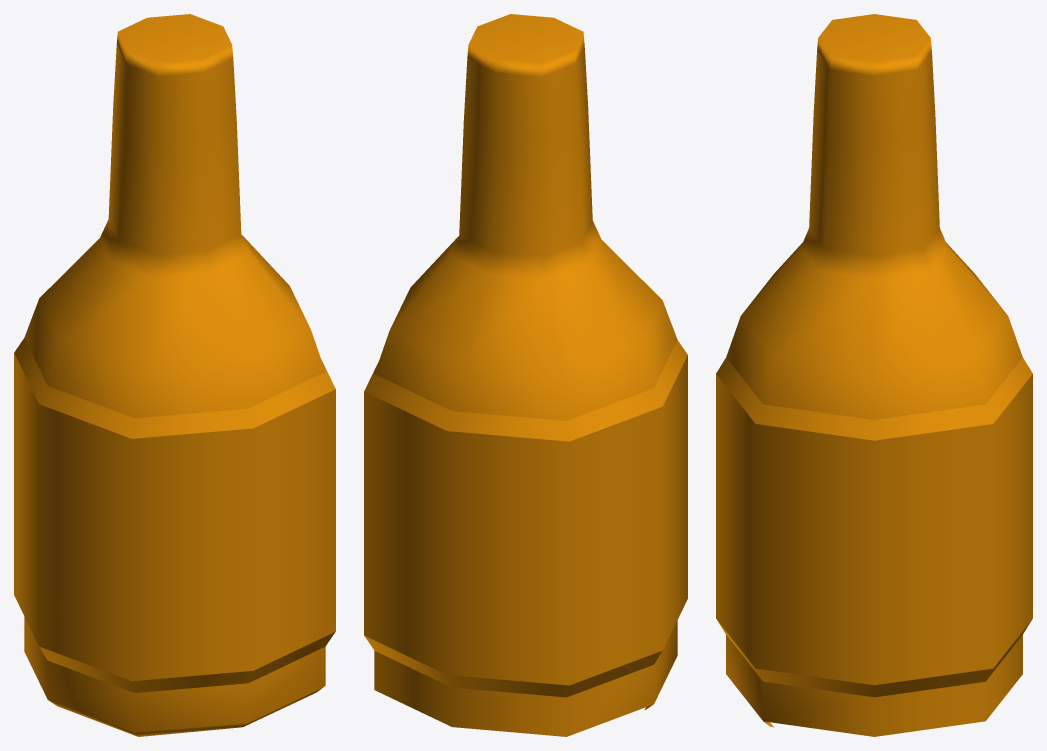
The model's file is Bottle.fbx.
3 renders of one model, left to right at view 1: azimuth 30°, elevation 25°; view 2: azimuth 150°, elevation 25°; view 3: azimuth 270°, elevation 25°, orthographic.
Visible parts, largest first — view 1: pasted__Bottle5; view 2: pasted__Bottle5; view 3: pasted__Bottle5.
Boxes of the visible parts, x1,y1,x2,y2 form: pasted__Bottle5: [14, 14, 335, 736]; pasted__Bottle5: [364, 14, 687, 736]; pasted__Bottle5: [716, 14, 1032, 736].
Size of the model in its own units: 0.0641 by 0.1445 by 0.0641.
